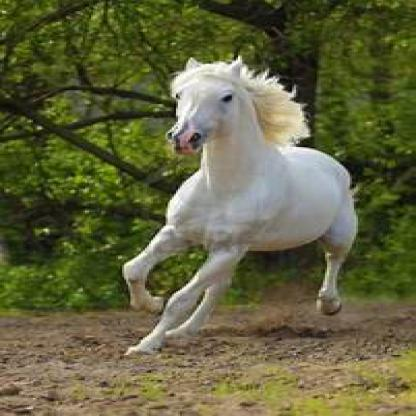horse: (122, 57, 360, 355)
